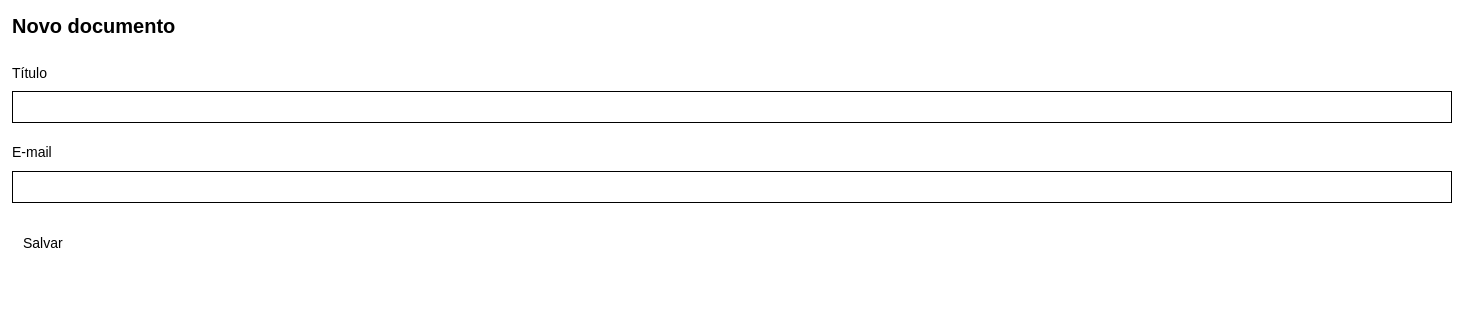
Test: EntityForm como página › enviar vazio mostra o erro de cada campo e não chama onSubmit
What coordinates should you click on to do the following:
click the button "Salvar"
I would click on:
 (43, 242)
Its box is x1=12 y1=226 x2=74 y2=258.
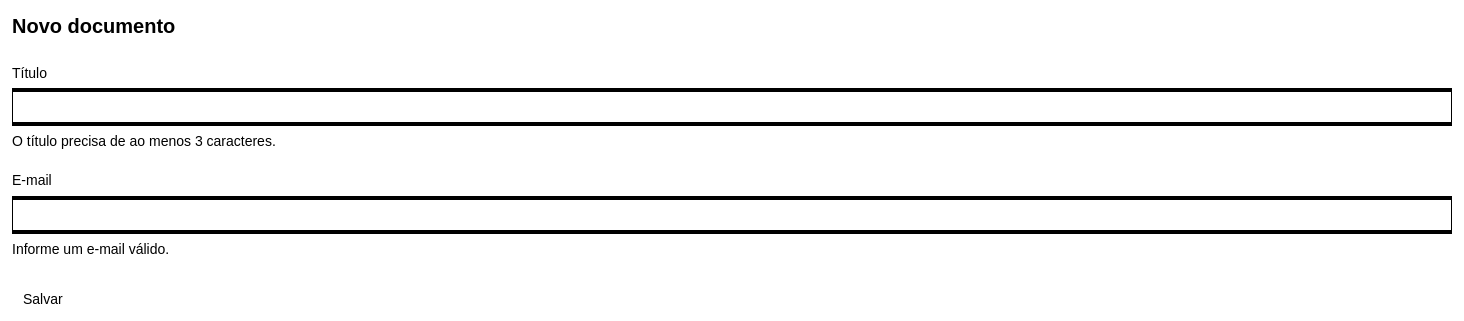
Now the text "O título precisa de ao menos 3 caracteres." is shown, box x1=12 y1=133 x2=276 y2=149
Now the text "Informe um e-mail válido." is shown, box x1=12 y1=240 x2=169 y2=256
